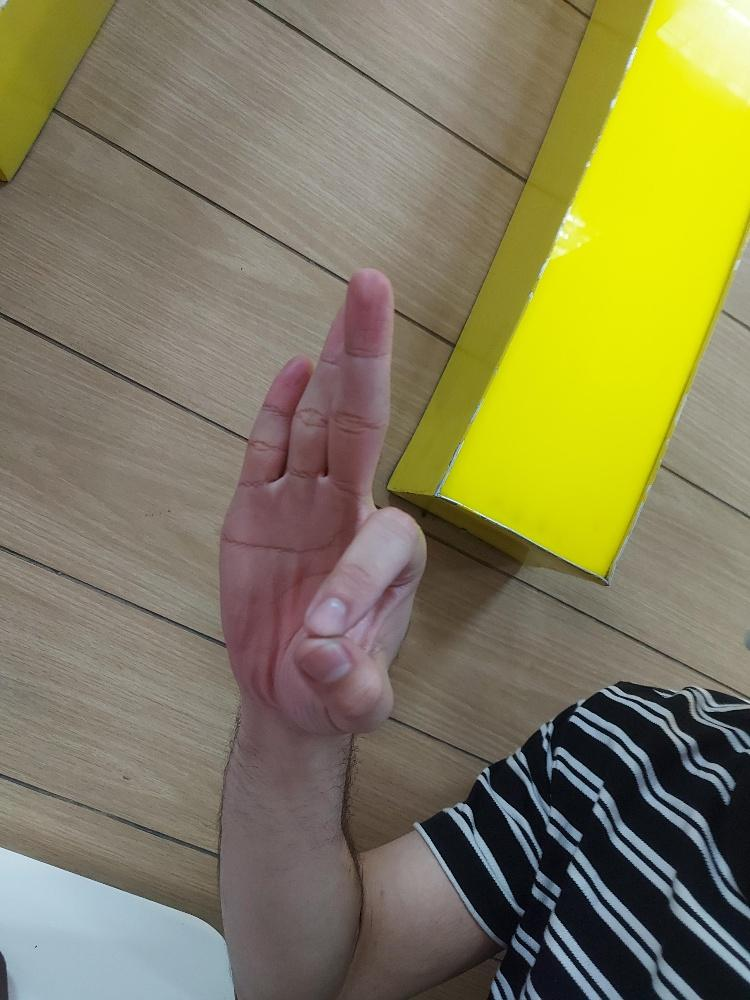f: (211, 260, 431, 743)
